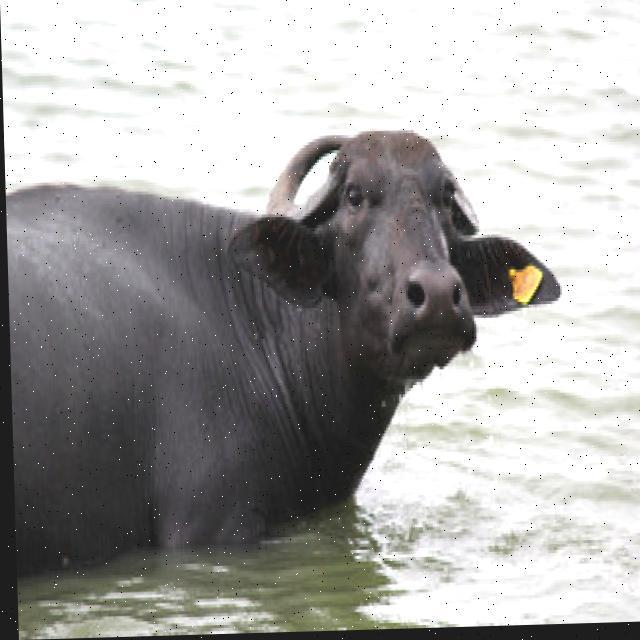Buffalo: (4, 123, 570, 563)
